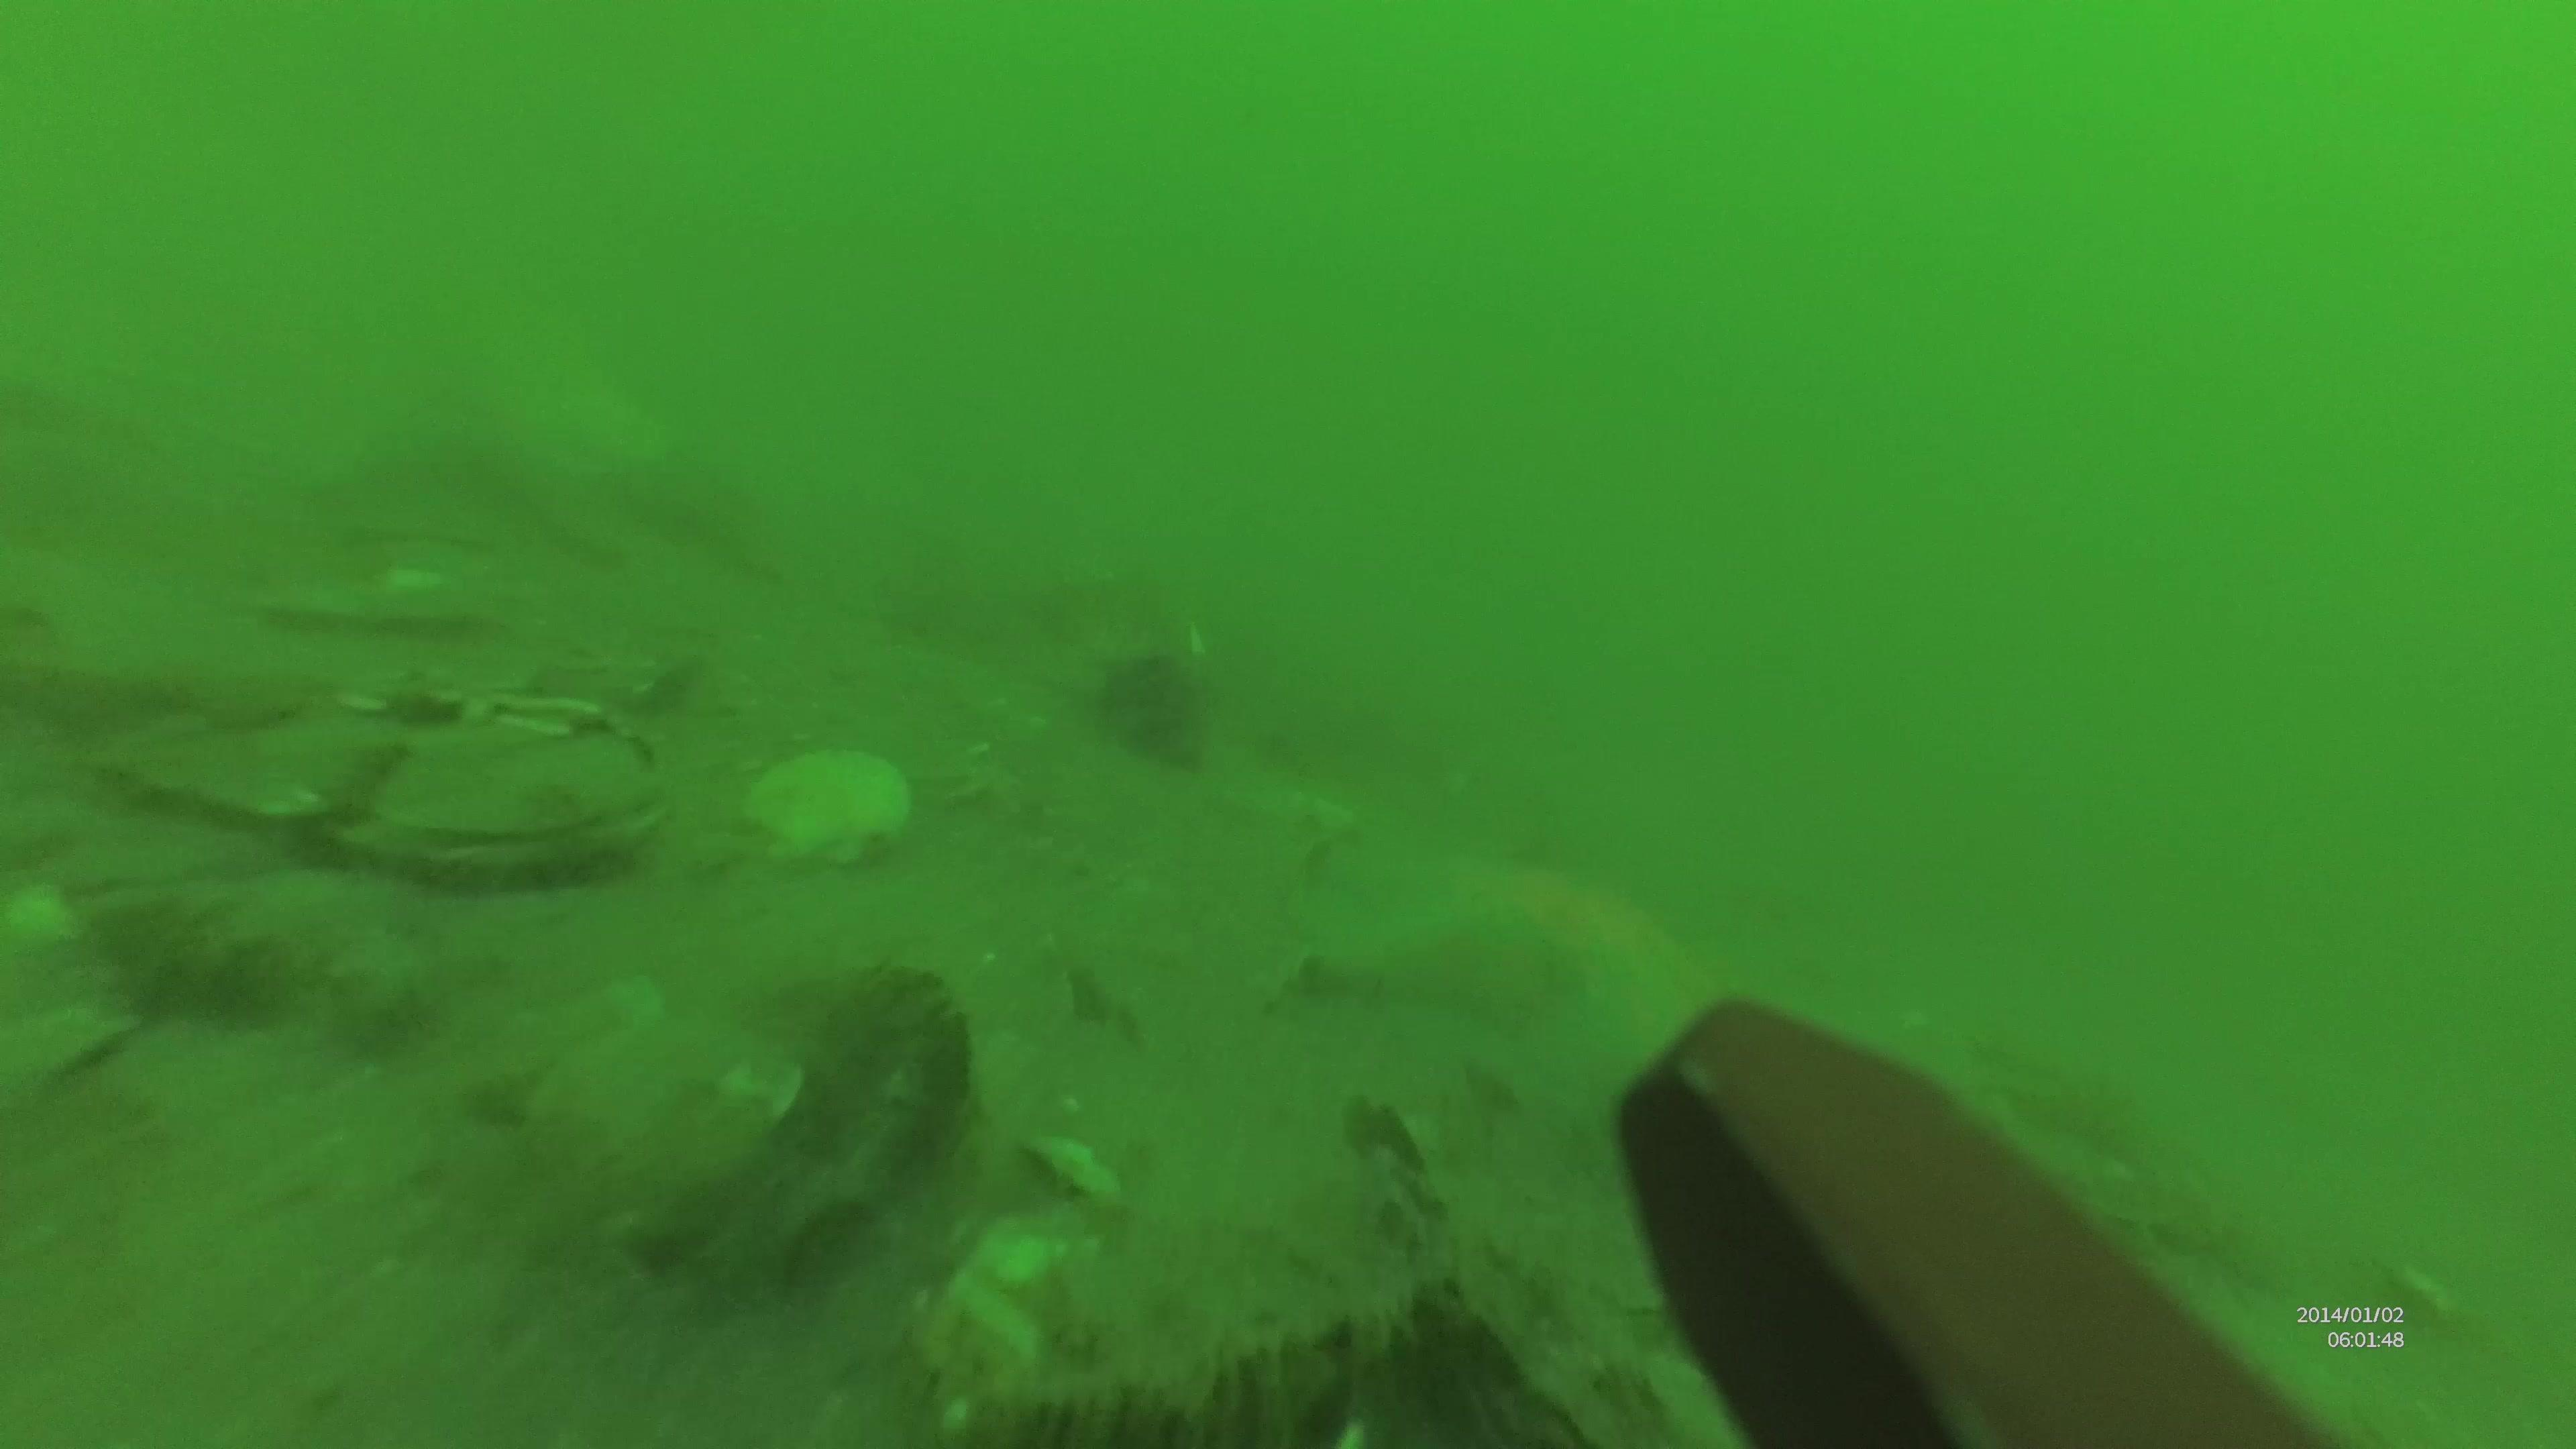scallop: (738, 741, 918, 853)
